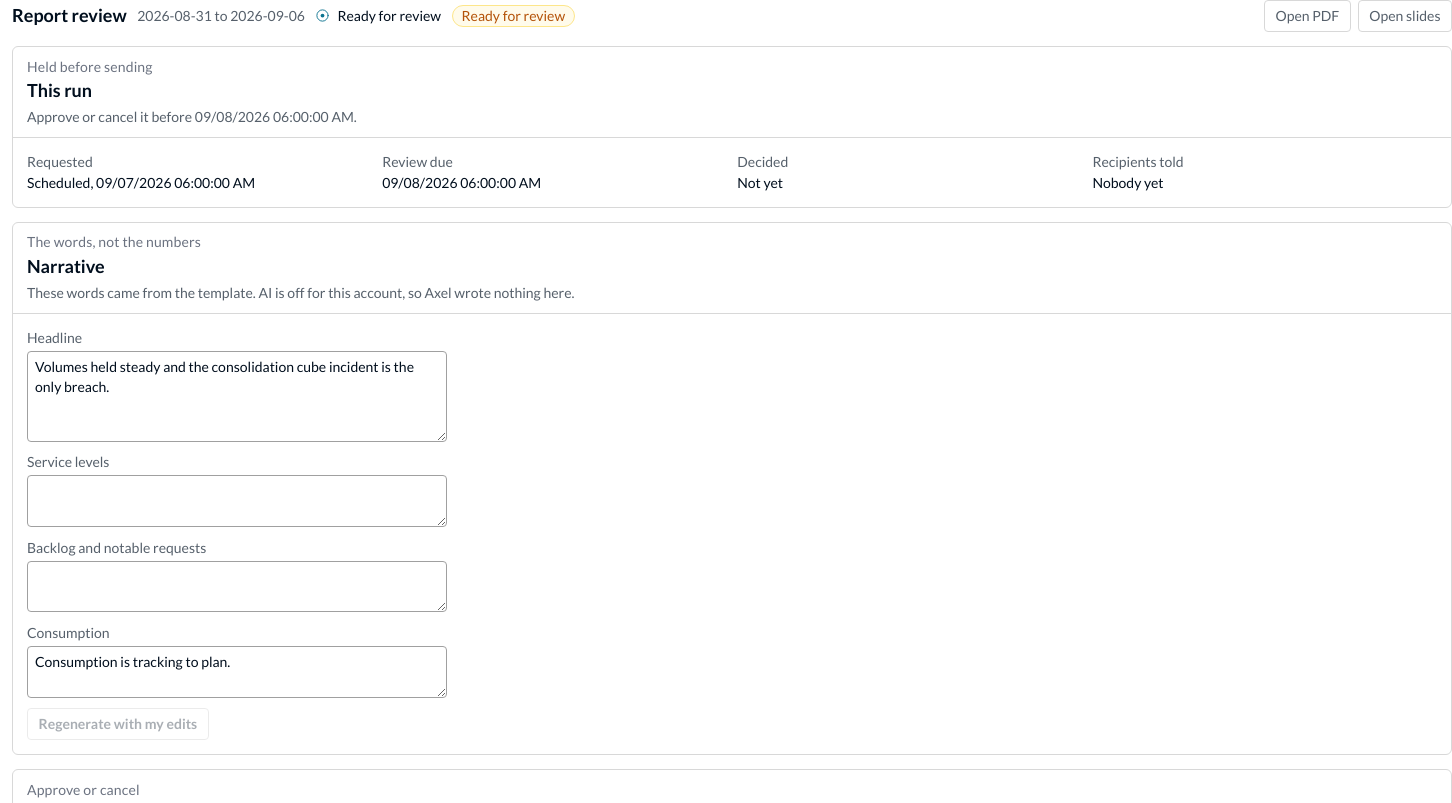
Test: ReportRunReview › saves the reviewer's words and rebuilds both renditions in one press
Expected: the button "Regenerate with my edits" is disabled, [27,708,209,740]
Replace the text in the text box labelled "Headline" with "A quiet week, with one breach on the consolidation cube." at (237, 396), box [27,351,447,442]
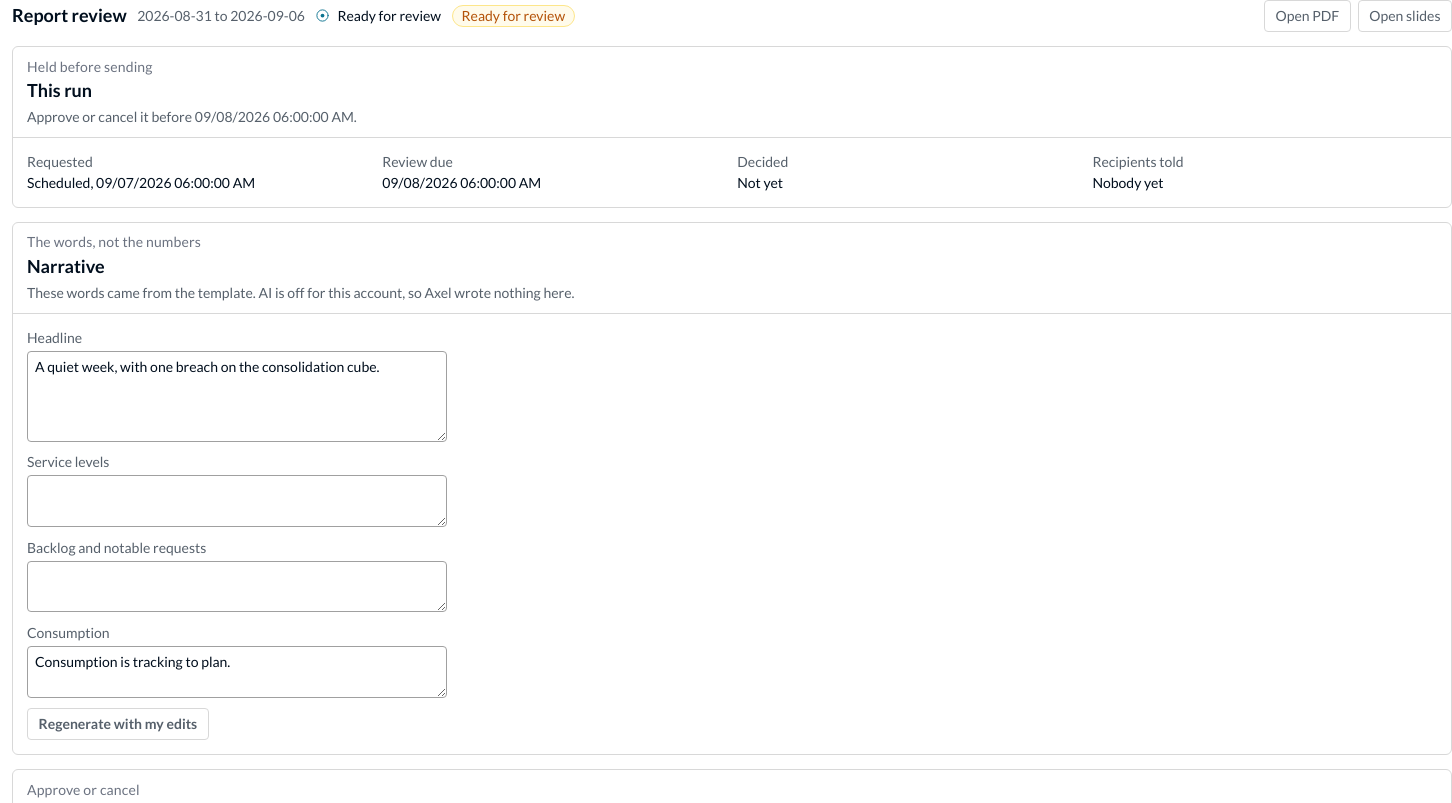
Expected: the button "Regenerate with my edits" is enabled
Click the button "Regenerate with my edits".
click(118, 724)  # box [27,708,209,740]
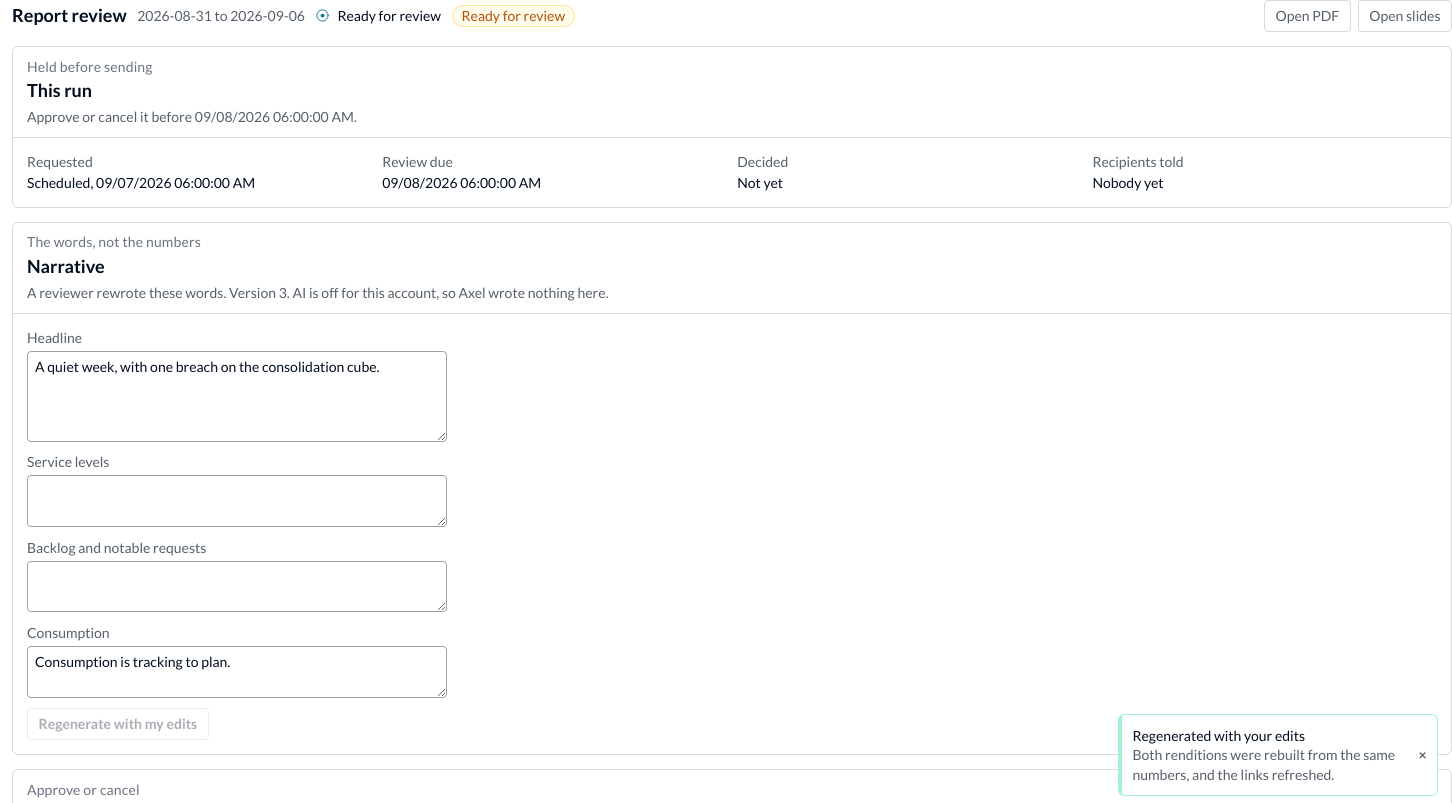
Expected: the text box labelled "Headline" holds "A quiet week, with one breach on the consolidation cube.", [27,351,447,442]
Expected: the text "Regenerated with your edits" is shown, [1132,727,1305,744]
